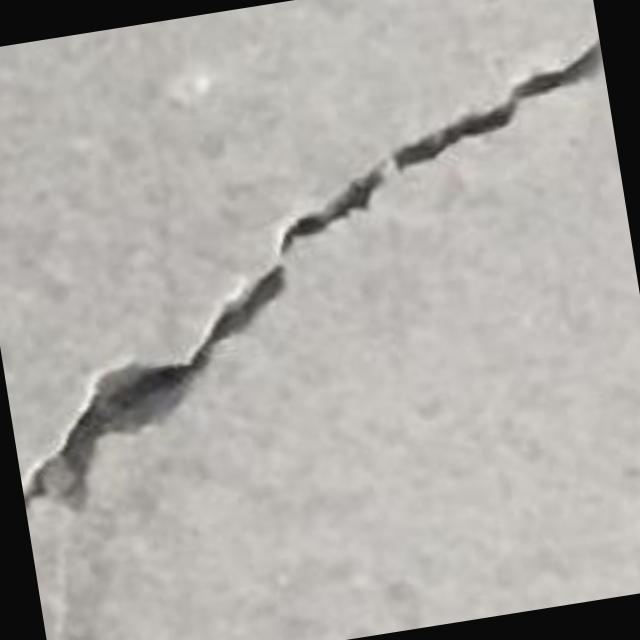crack: (22, 41, 602, 510)
